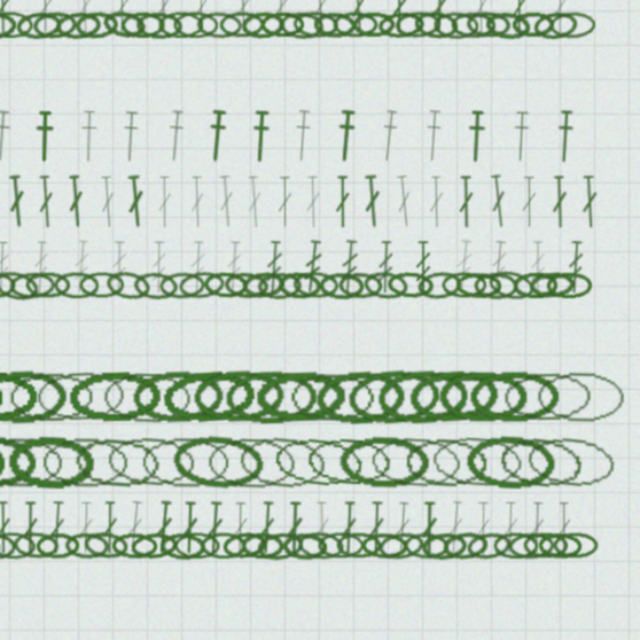chain: (317, 427, 401, 481), (538, 427, 622, 481), (513, 426, 595, 481), (287, 427, 370, 480), (222, 371, 305, 423), (231, 428, 314, 480), (456, 428, 539, 479), (384, 371, 466, 422), (437, 371, 519, 422), (173, 428, 255, 479), (143, 428, 224, 479), (346, 428, 427, 479), (403, 429, 485, 479), (356, 372, 437, 422), (410, 372, 492, 421), (112, 372, 193, 421), (250, 372, 331, 421), (487, 429, 568, 478), (34, 429, 114, 478), (141, 373, 222, 421), (170, 373, 251, 421), (197, 373, 278, 421), (519, 373, 600, 421), (261, 430, 342, 478), (432, 429, 511, 478), (278, 373, 358, 421), (88, 429, 166, 478), (548, 373, 629, 420), (304, 373, 383, 421), (377, 430, 456, 478), (204, 430, 284, 477), (60, 430, 139, 477), (117, 430, 196, 477), (34, 374, 114, 420), (6, 431, 86, 477), (62, 373, 140, 420), (88, 373, 166, 420), (332, 373, 410, 420), (464, 374, 543, 420), (6, 374, 84, 420), (491, 374, 569, 420), (74, 284, 118, 316), (506, 284, 550, 315), (170, 58, 211, 87), (173, 285, 214, 314), (23, 513, 65, 541), (305, 513, 347, 541), (411, 513, 453, 541), (546, 59, 587, 87), (488, 513, 529, 541), (237, 286, 279, 313), (341, 513, 383, 540), (39, 59, 80, 86), (442, 59, 483, 86), (398, 286, 439, 313), (154, 513, 195, 540), (275, 513, 316, 540), (467, 513, 508, 540), (195, 514, 237, 540), (292, 286, 332, 313), (445, 286, 485, 313), (95, 60, 136, 86), (411, 60, 452, 86), (504, 60, 545, 86), (42, 514, 83, 540), (130, 60, 170, 86), (325, 60, 365, 86), (277, 287, 317, 313), (449, 514, 489, 540), (426, 60, 467, 85), (337, 287, 378, 312), (419, 287, 460, 312), (93, 514, 134, 539), (198, 287, 237, 313), (110, 60, 150, 85), (337, 60, 377, 85), (488, 60, 528, 85), (259, 287, 299, 312), (543, 287, 583, 312), (73, 514, 113, 539), (200, 61, 241, 85), (525, 515, 566, 539), (147, 60, 186, 85), (292, 60, 331, 85), (324, 287, 363, 312), (253, 61, 293, 85), (561, 61, 601, 85), (90, 288, 130, 312), (221, 288, 261, 312), (479, 288, 519, 312), (56, 515, 96, 539), (138, 515, 178, 539), (179, 515, 219, 539), (221, 515, 261, 539), (397, 515, 437, 539), (57, 61, 96, 85), (460, 61, 499, 85), (475, 61, 514, 85), (24, 288, 63, 312), (306, 288, 345, 312), (360, 288, 399, 312), (377, 288, 416, 312), (495, 288, 534, 312), (113, 515, 152, 539), (328, 515, 367, 539), (434, 515, 473, 539), (551, 515, 590, 539), (71, 61, 111, 84), (273, 61, 313, 84), (372, 61, 412, 84), (558, 288, 598, 311), (234, 515, 274, 538), (257, 515, 297, 538), (359, 515, 399, 538), (375, 515, 415, 538), (564, 515, 604, 538), (355, 61, 393, 85), (24, 61, 63, 84), (187, 61, 226, 84), (220, 61, 259, 84), (233, 61, 272, 84), (309, 61, 348, 84), (42, 288, 81, 311), (57, 288, 96, 311), (104, 288, 143, 311), (129, 288, 168, 311), (151, 288, 190, 311), (467, 288, 506, 311), (529, 288, 568, 311), (512, 515, 551, 538), (538, 515, 577, 538), (389, 61, 427, 84), (528, 61, 566, 84), (292, 515, 330, 538)
double: (215, 487, 235, 534), (87, 203, 106, 250), (191, 203, 210, 250), (270, 203, 289, 250), (397, 203, 416, 250), (425, 203, 444, 250), (507, 203, 526, 250), (190, 487, 209, 534), (423, 488, 442, 534), (139, 203, 157, 250), (470, 487, 488, 534), (352, 34, 370, 80), (113, 204, 131, 250), (167, 204, 185, 250), (295, 204, 313, 250), (587, 204, 605, 250), (260, 488, 278, 534), (216, 34, 233, 80), (386, 34, 403, 80), (37, 204, 54, 250), (33, 488, 50, 534), (123, 488, 140, 534), (148, 488, 165, 534), (239, 488, 256, 534), (306, 488, 323, 534), (518, 488, 535, 534), (43, 34, 59, 80), (148, 34, 164, 80), (286, 34, 302, 80), (319, 34, 335, 80), (422, 34, 438, 80), (457, 34, 473, 80), (63, 204, 79, 250), (246, 204, 262, 250), (347, 204, 363, 250), (535, 204, 551, 250), (562, 204, 578, 250), (55, 488, 71, 534), (331, 488, 347, 534), (355, 488, 371, 534), (378, 488, 394, 534), (402, 488, 418, 534), (448, 488, 464, 534), (495, 488, 511, 534), (542, 488, 558, 534), (77, 34, 92, 80), (114, 34, 129, 80), (181, 34, 196, 80), (250, 34, 265, 80), (494, 34, 509, 80), (527, 34, 542, 80), (563, 34, 578, 80), (218, 204, 233, 250), (323, 204, 338, 250), (373, 204, 388, 250), (455, 204, 470, 250), (481, 204, 496, 250), (77, 488, 92, 534), (101, 488, 116, 534), (170, 488, 185, 534), (284, 488, 299, 534), (566, 488, 581, 534)
half_double: (260, 146, 282, 193), (73, 146, 94, 193), (373, 146, 394, 193), (411, 146, 432, 193), (225, 146, 245, 193), (336, 146, 356, 193), (450, 146, 470, 193), (299, 147, 319, 193), (526, 147, 546, 193), (36, 146, 55, 193), (111, 147, 130, 193), (150, 147, 169, 193), (186, 147, 205, 193), (488, 147, 507, 193), (565, 147, 584, 193)
treble: (344, 260, 365, 307), (476, 260, 496, 307), (377, 260, 396, 307), (507, 260, 526, 307), (144, 260, 162, 307), (40, 261, 58, 307), (245, 261, 263, 307), (277, 261, 295, 307), (312, 261, 330, 307), (75, 261, 92, 307), (109, 261, 126, 307), (575, 261, 592, 307), (178, 261, 194, 307), (410, 261, 426, 307), (443, 261, 459, 307), (543, 261, 559, 307), (213, 261, 228, 307)
